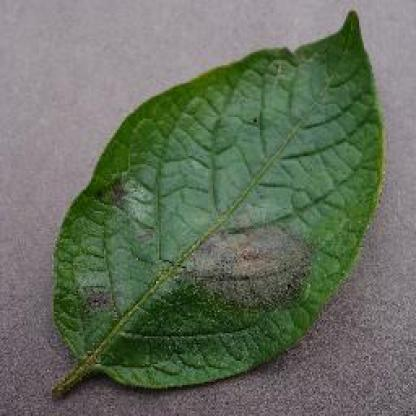bad leaf: (31, 22, 377, 414)
